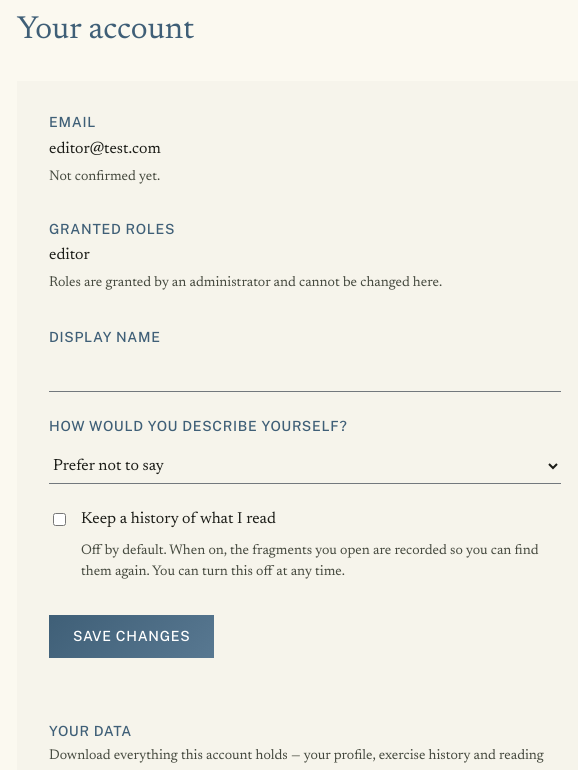
Profile › explains a refused write when the address is unconfirmed
The image size is (578, 770).
What coordinates should you click on to do the following:
click the button "Save changes"
I would click on:
 (132, 636)
Its box is x1=49 y1=614 x2=214 y2=658.
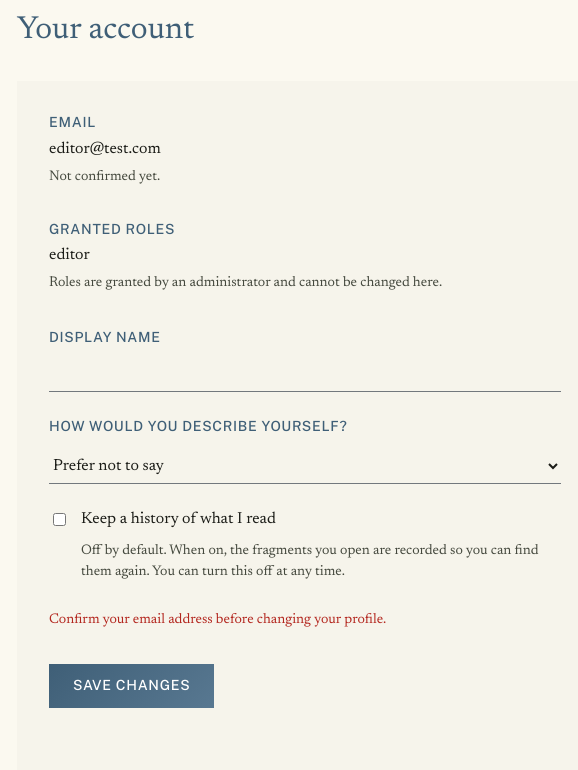
Expected: the message shows "Confirm your email", x1=49 y1=612 x2=386 y2=626
